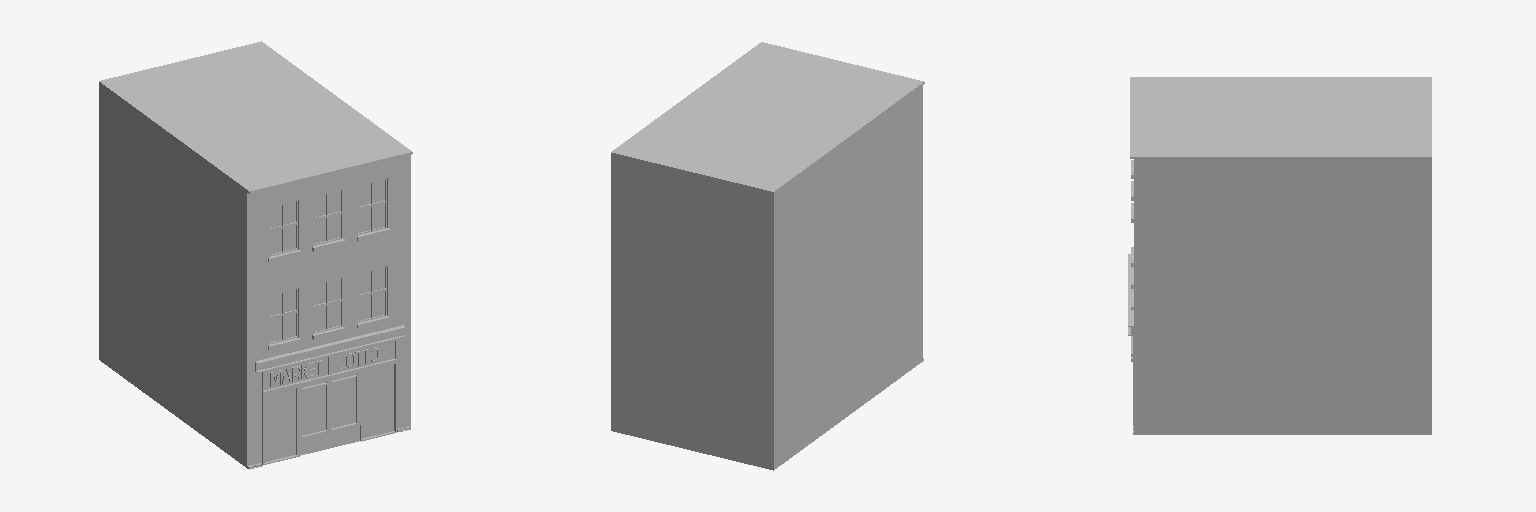
Rendered from Test_Building.vox.obj.
3 renders of one model, left to right at view 1: azimuth 30°, elevation 25°; view 2: azimuth 150°, elevation 25°; view 3: azimuth 270°, elevation 25°, orthographic.
Visible parts, largest first — view 1: object 1; view 2: object 1; view 3: object 1.
Boxes of the visible parts, box(x1,y1,x2,y2) form: object 1: box(99, 41, 412, 469); object 1: box(611, 42, 924, 470); object 1: box(1128, 77, 1431, 434).
Size of the model in its own units: 13.6 by 22.2 by 21.9.